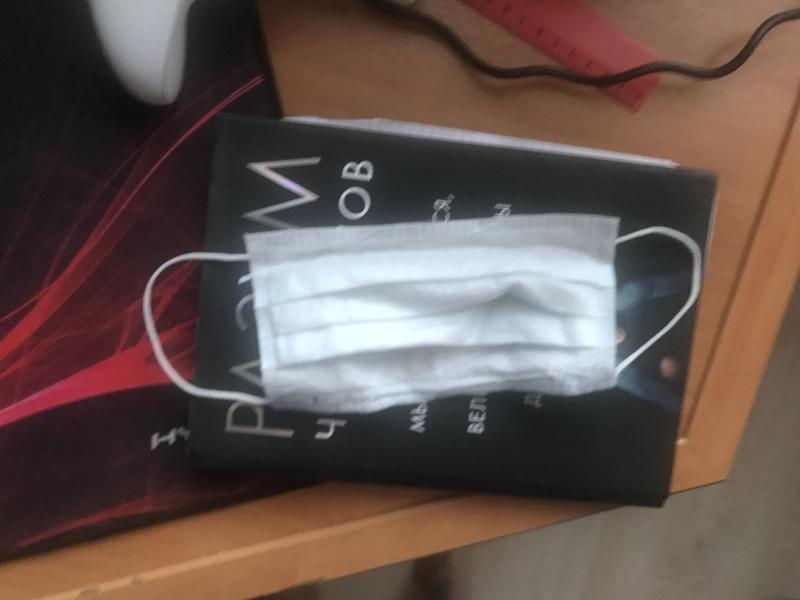medical_mask: (143, 213, 700, 413)
